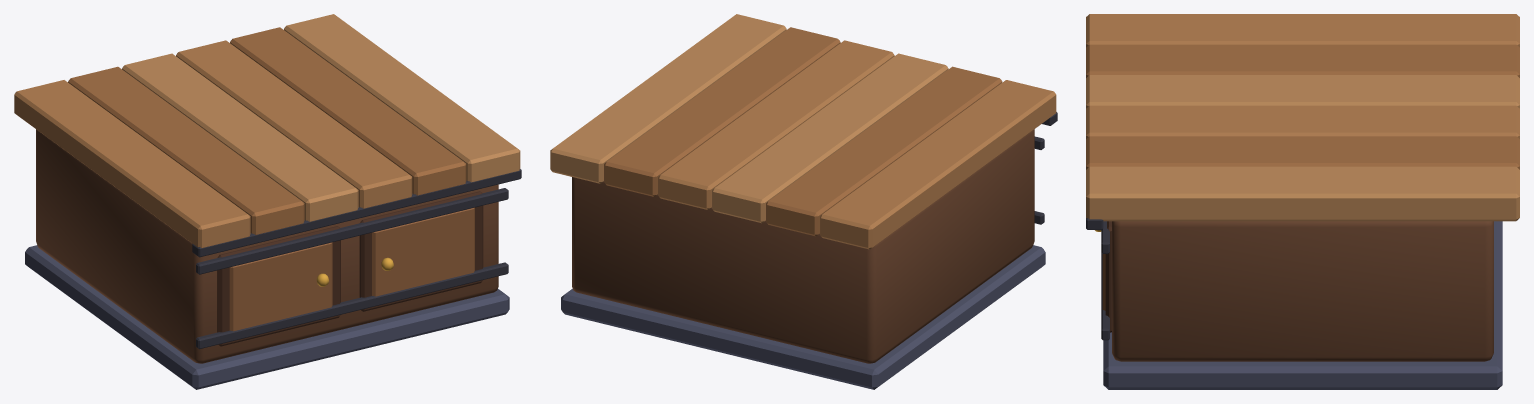
File: magic_counter.glb
The picture shows the model from 3 angles, left to right: view 1: azimuth 30°, elevation 25°; view 2: azimuth 150°, elevation 25°; view 3: azimuth 270°, elevation 25°; orthographic projection. The views are drawn at different scales.
Parts seen in each view (by area): view 1: magic_counter; view 2: magic_counter; view 3: magic_counter.
Boxes of the visible parts, x1,y1,x2,y2 form: magic_counter: (14, 14, 521, 389); magic_counter: (550, 14, 1057, 389); magic_counter: (1086, 14, 1519, 389).
Size of the model in its own units: 1 by 0.505 by 1.
